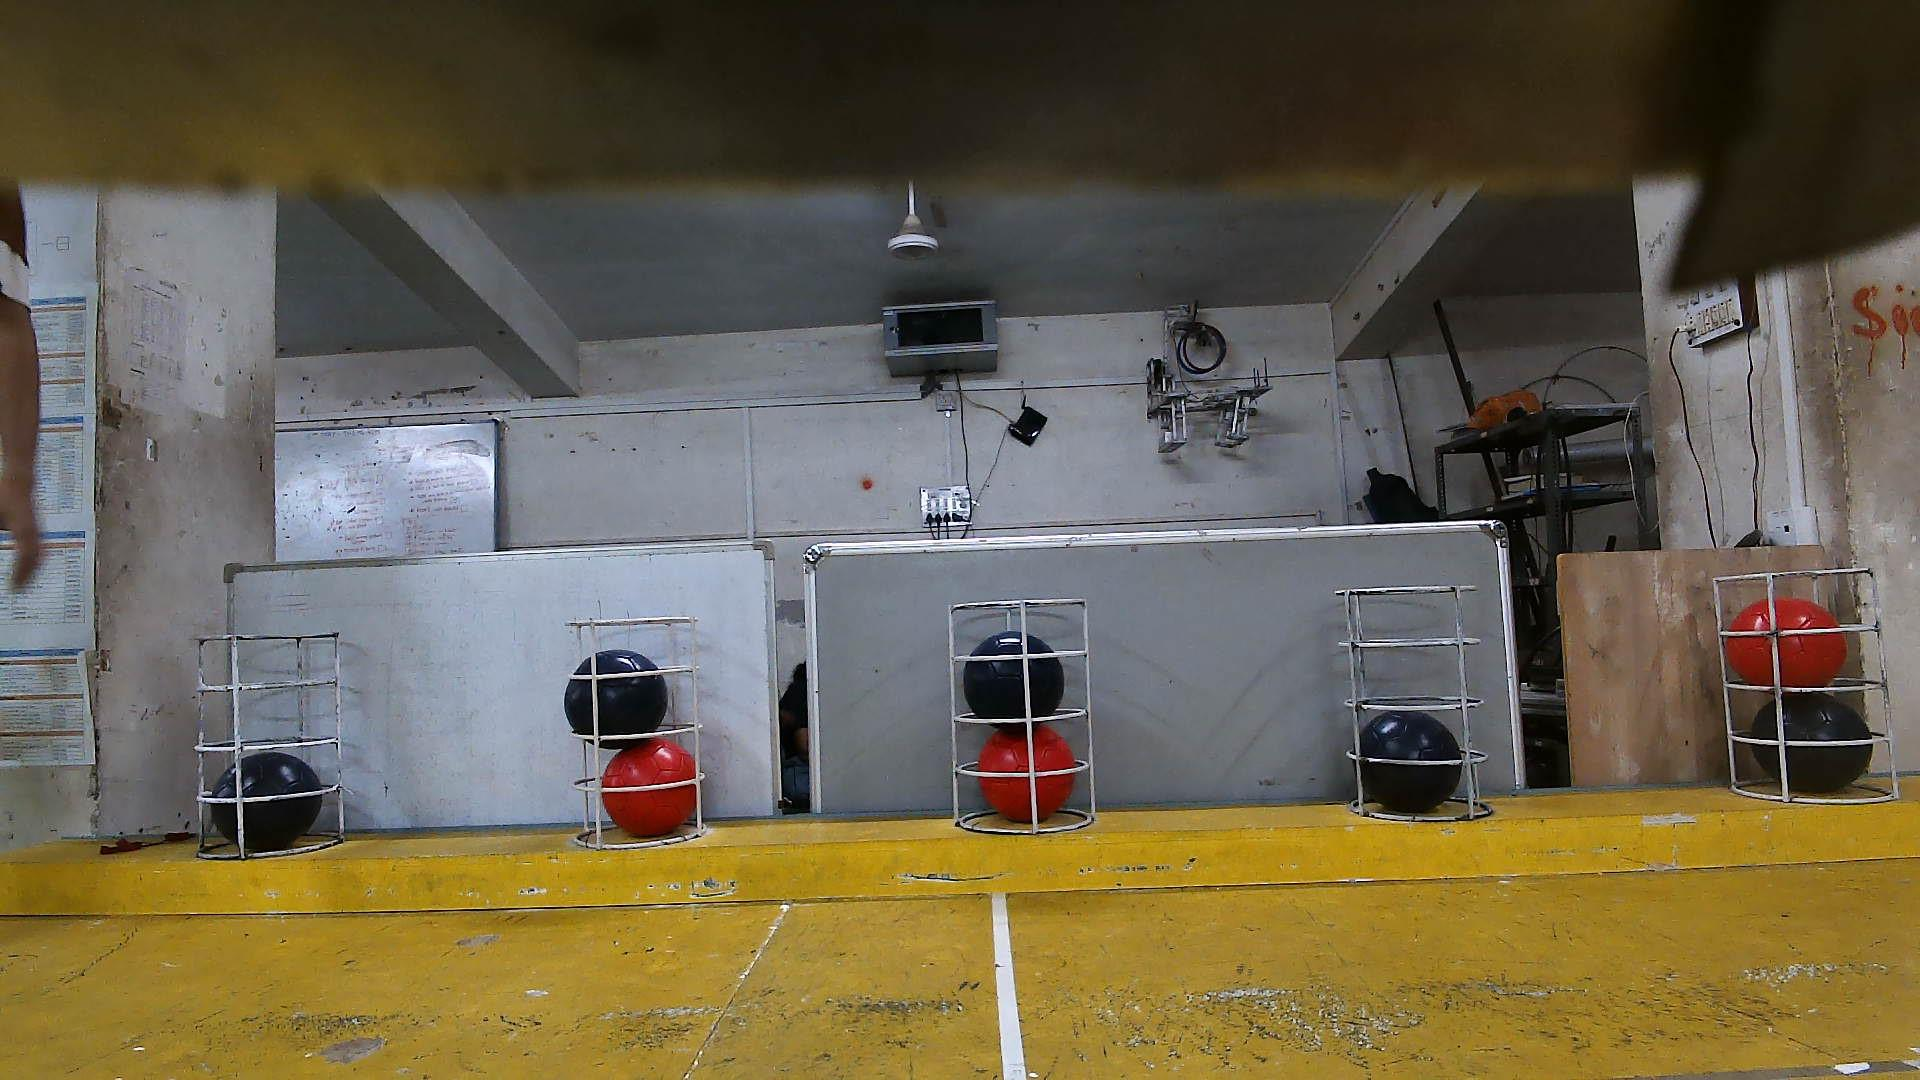dhoka: (1750, 688, 1874, 793), (210, 753, 326, 853), (562, 655, 674, 750), (1358, 707, 1460, 811), (964, 630, 1064, 728)
laale: (1734, 596, 1836, 690), (604, 737, 698, 837), (978, 728, 1076, 822)
